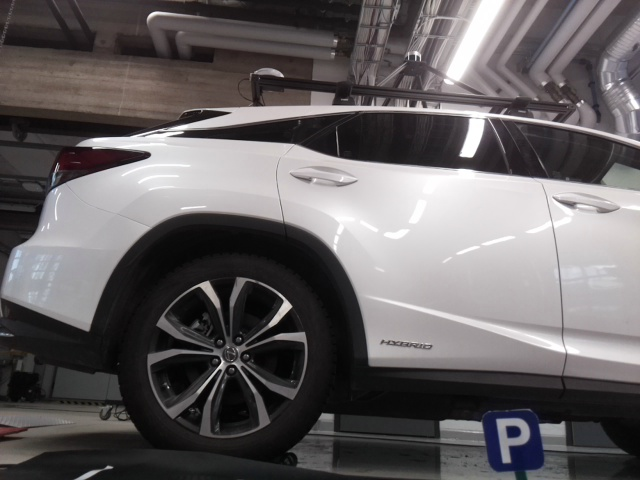Parking: (481, 412, 543, 470)
